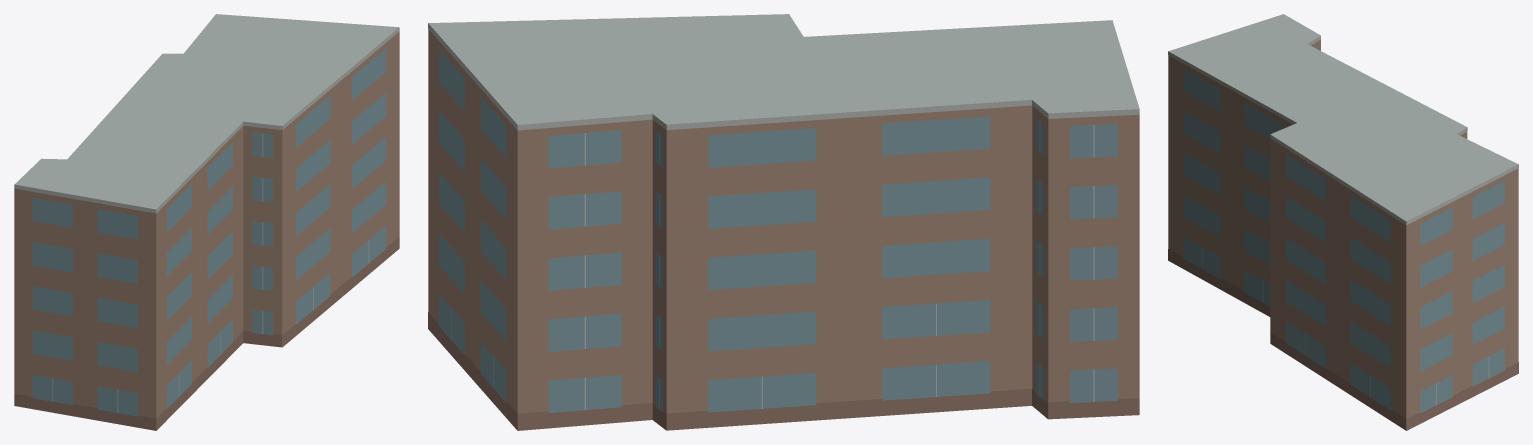
The model's file is survey-upis-32493644.glb.
The picture shows the model from 3 angles, left to right: view 1: azimuth 30°, elevation 25°; view 2: azimuth 150°, elevation 25°; view 3: azimuth 270°, elevation 25°; orthographic projection. The views are drawn at different scales.
Visible parts, largest first — view 1: survey-upis-32493644.tmp; view 2: survey-upis-32493644.tmp; view 3: survey-upis-32493644.tmp.
Part boxes in pixels (x1,y1,x2,y2): survey-upis-32493644.tmp: (14, 14, 399, 430); survey-upis-32493644.tmp: (428, 14, 1139, 430); survey-upis-32493644.tmp: (1168, 14, 1518, 430).
Size of the model in its own units: 28.52 by 13.4 by 20.35.
